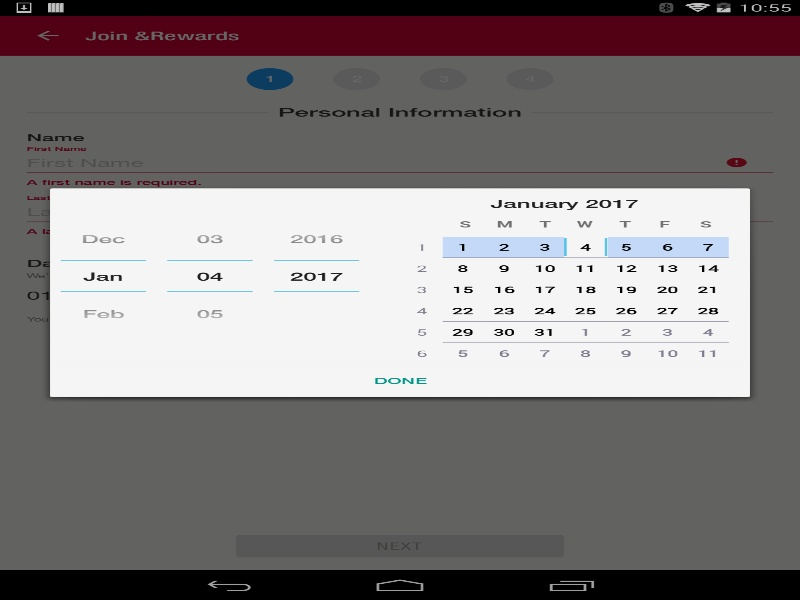Button: (50, 363, 750, 397), (60, 290, 146, 332), (167, 290, 252, 332), (60, 219, 146, 260), (167, 219, 252, 260), (274, 219, 359, 260)
Input: (60, 260, 146, 290), (167, 260, 252, 290), (274, 260, 359, 290)
